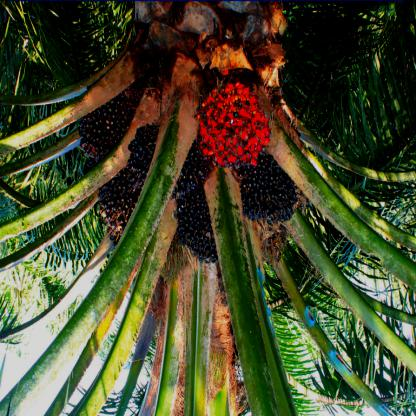1: (194, 80, 272, 166), (78, 84, 133, 158)
palm-oil: (235, 160, 302, 228), (174, 196, 222, 264), (95, 176, 146, 235), (126, 126, 159, 184), (177, 155, 207, 192)
